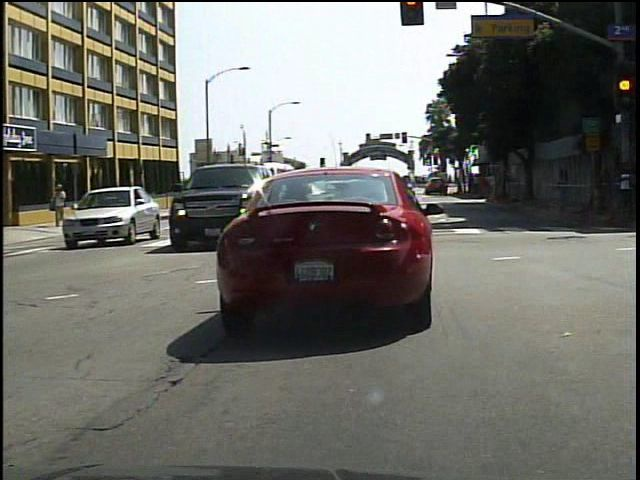person: (52, 180, 75, 230)
